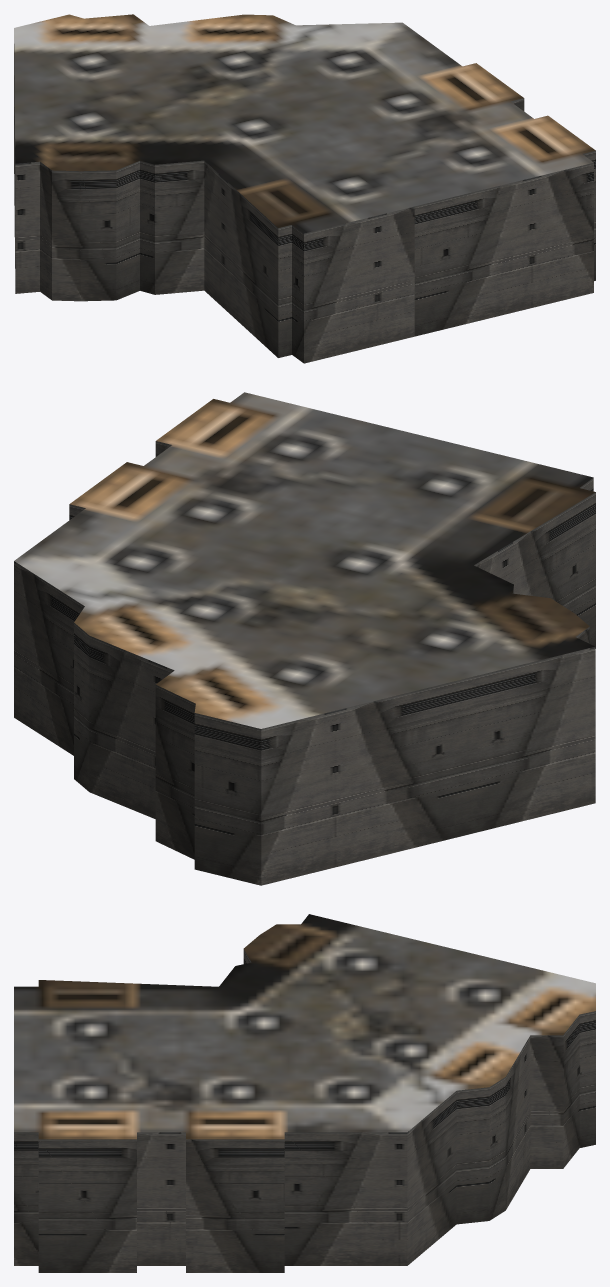
Rendered from fortress_medium_a_40.glb.
3 renders of one model, top to bottom at view 1: azimuth 30°, elevation 25°; view 2: azimuth 150°, elevation 25°; view 3: azimuth 270°, elevation 25°, orthographic. The views are drawn at different scales.
Visible parts, largest first — view 1: buildings/saxarba/fortress_medium/fortress_medium_a_40; view 2: buildings/saxarba/fortress_medium/fortress_medium_a_40; view 3: buildings/saxarba/fortress_medium/fortress_medium_a_40.
Boxes of the visible parts, x1=… form: buildings/saxarba/fortress_medium/fortress_medium_a_40: x1=14, y1=14, x2=595, y2=363; buildings/saxarba/fortress_medium/fortress_medium_a_40: x1=14, y1=392, x2=595, y2=885; buildings/saxarba/fortress_medium/fortress_medium_a_40: x1=14, y1=914, x2=595, y2=1272.
Bounding box in the file's own units: 65 × 18 × 71.
